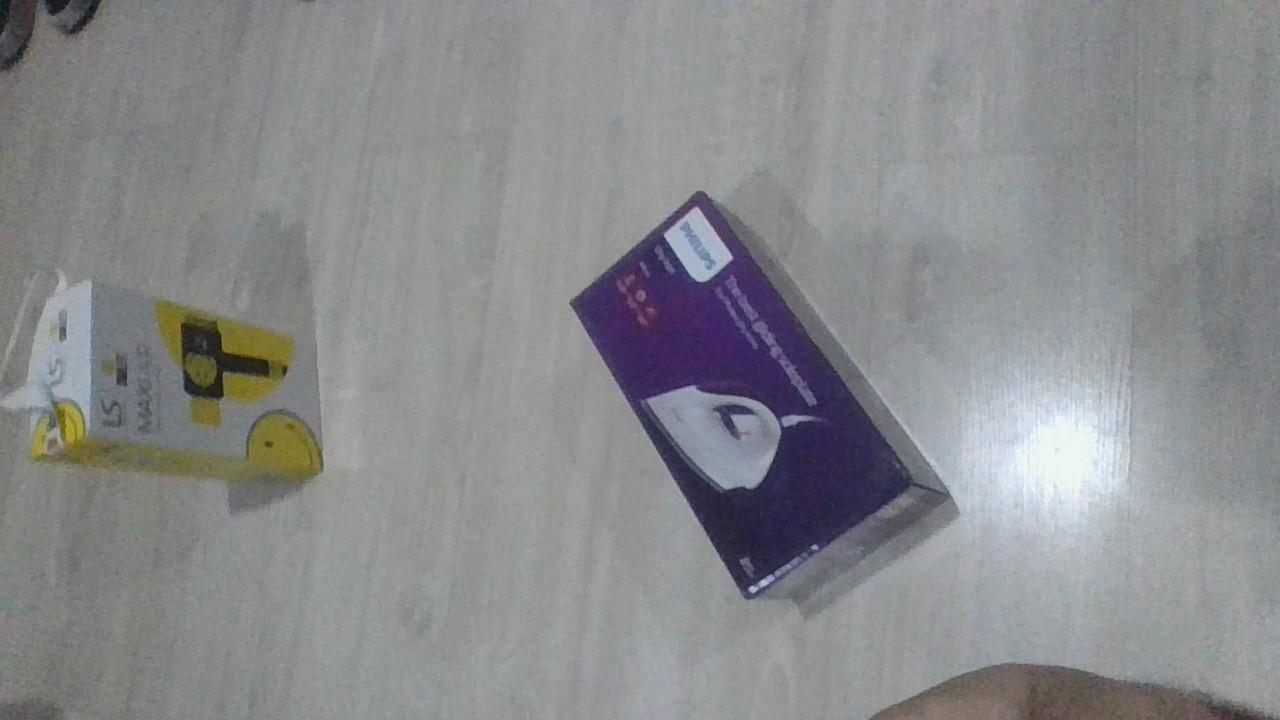IRON: (565, 187, 958, 606)
